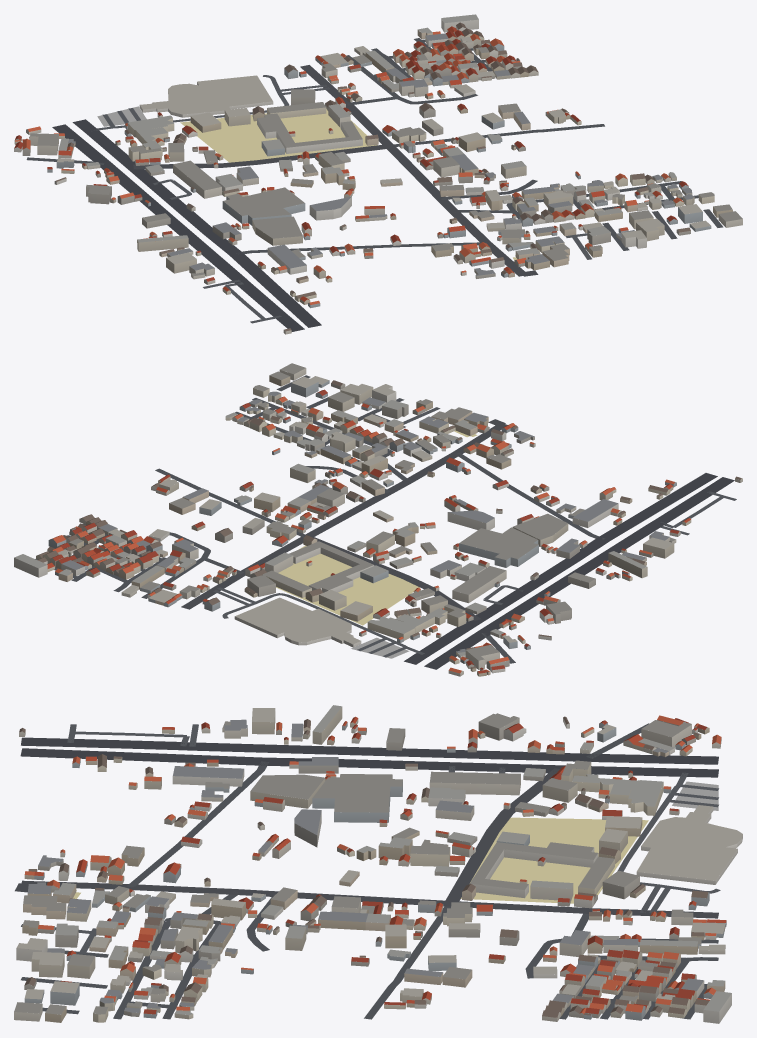
3 views of the same model, one above another, from view 1: azimuth 30°, elevation 25°; view 2: azimuth 150°, elevation 25°; view 3: azimuth 270°, elevation 25° (orthographic). The views are drawn at different scales.
Visible parts, largest first — view 1: buildings_roofs, buildings_walls, roads, landuse; view 2: buildings_roofs, buildings_walls, roads, landuse; view 3: buildings_roofs, buildings_walls, roads, landuse.
Part boxes in pixels (x1=…): buildings_roofs: x1=14, y1=14, x2=742, y2=331; buildings_walls: x1=14, y1=19, x2=742, y2=334; roads: x1=26, y1=38, x2=723, y2=331; landuse: x1=97, y1=106, x2=517, y2=260; buildings_roofs: x1=14, y1=363, x2=741, y2=673; buildings_walls: x1=14, y1=368, x2=742, y2=676; roads: x1=35, y1=375, x2=736, y2=669; landuse: x1=276, y1=430, x2=477, y2=658; buildings_roofs: x1=14, y1=705, x2=742, y2=1017; buildings_walls: x1=14, y1=707, x2=742, y2=1023; roads: x1=15, y1=723, x2=720, y2=1019; landuse: x1=73, y1=781, x2=718, y2=903.
Size of the model in its own units: 520 by 9.76 by 523.
